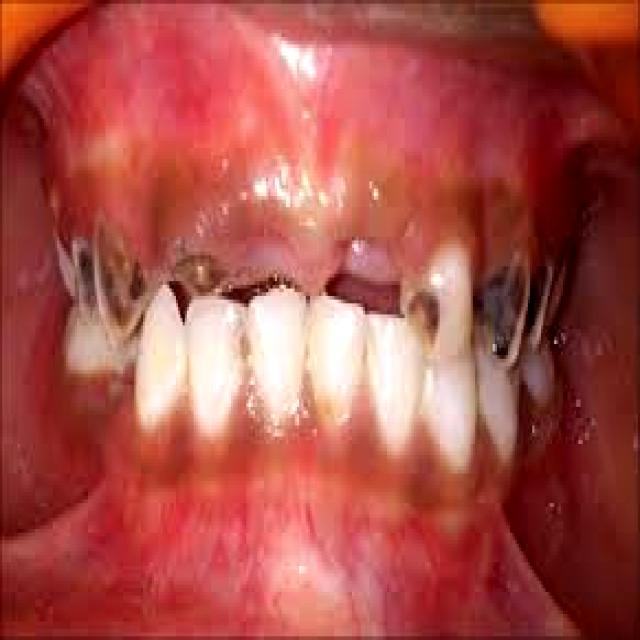cariess: (55, 229, 218, 329), (400, 244, 471, 359), (475, 259, 552, 363), (475, 263, 528, 355)
